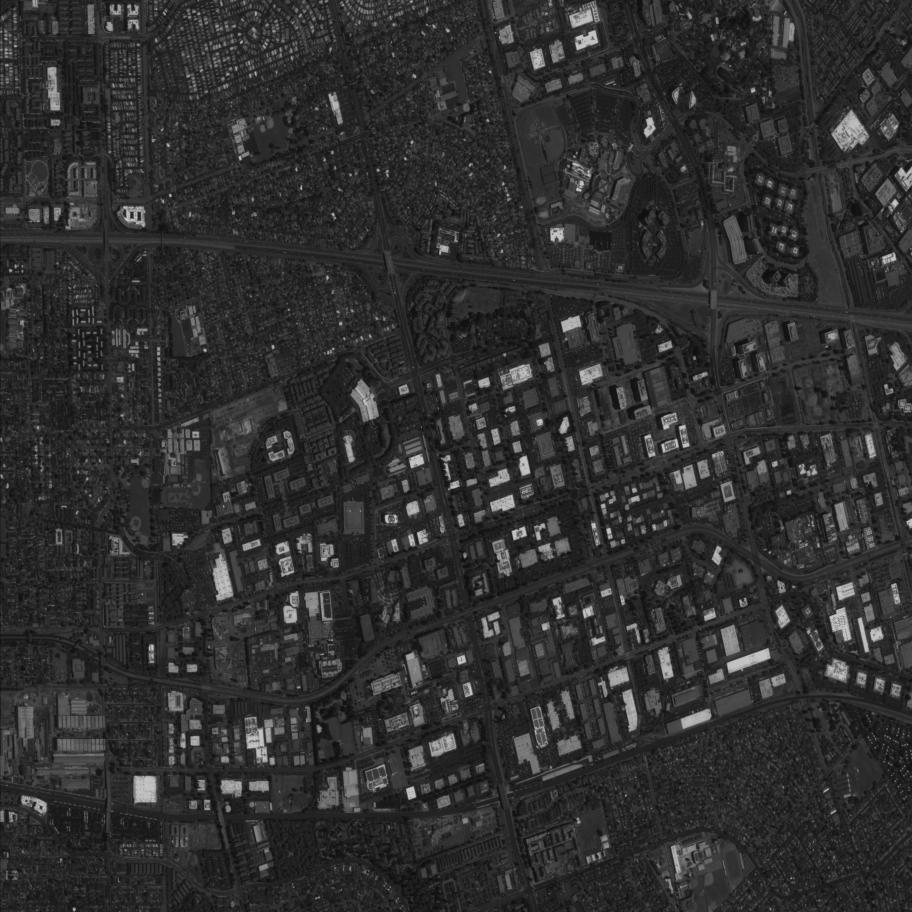storage-tank: (223, 804, 232, 813), (549, 765, 553, 769)
